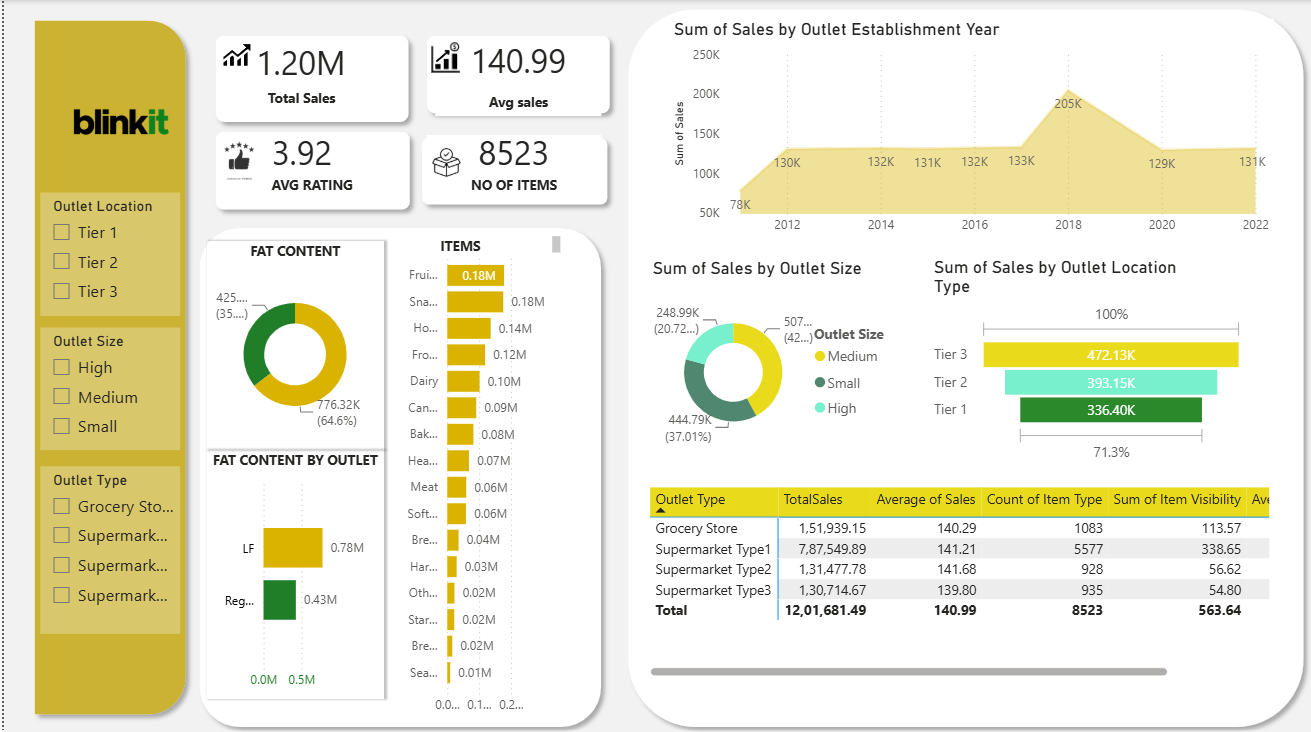

The page's visual inventory and layout, read from the dashboard file:
{"tool":"powerbi","page":{"name":"Page 1","canvas":[1280,720],"ordinal":0},"visuals":[{"type":"shape","box":[20.6,11,166,697.1],"z":0},{"type":"image","box":[20.6,50.8,188,135.8],"z":1000},{"type":"shape","box":[198.1,25.7,206.7,102.7],"z":2000},{"type":"shape","box":[404.8,25.7,196.9,94.2],"z":3000},{"type":"shape","box":[198.1,119.8,207.9,94.2],"z":4000},{"type":"shape","box":[182.2,214,410.9,506.3],"z":5000},{"type":"shape","box":[601.6,0,678.7,720.2],"z":6000},{"type":"card","fields":{"Values":["Sum(BlinkIT Grocery Data.Sales)"]},"box":[209.1,33,162.6,57.5],"z":7000},{"type":"card","fields":{"Values":["Avg(BlinkIT Grocery Data.Sales)"]},"box":[421.9,34.2,162.6,51.4],"z":8000},{"type":"card","fields":{"Values":["Avg(BlinkIT Grocery Data.Rating)"]},"box":[210.3,126,162.6,47.7],"z":9000},{"type":"textbox","box":[220.1,81.9,141.8,31.8],"z":10000},{"type":"textbox","box":[421.9,85.6,162.6,28.1],"z":11000},{"type":"textbox","box":[247,166.3,108.8,28.1],"z":12000},{"type":"barChart","fields":{"Y":["Sum(BlinkIT Grocery Data.Sales)"],"Category":["BlinkIT Grocery Data.Item Type"]},"box":[377.9,236,171.2,472],"z":13000},{"type":"textbox","box":[421.9,226.2,127.2,25.7],"z":14000},{"type":"donutChart","title":"FAT CONTENT ","fields":{"Category":["BlinkIT Grocery Data.Item Fat Content"],"Y":["Sum(BlinkIT Grocery Data.Sales)"]},"box":[198.1,236,173.6,204.2],"z":15000},{"type":"barChart","title":"FAT CONTENT BY OUTLET","fields":{"Category":["BlinkIT Grocery Data.Item Fat Content"],"Y":["Sum(BlinkIT Grocery Data.Sales)"]},"box":[198.1,440.2,173.6,243.3],"z":16000},{"type":"donutChart","fields":{"Category":["BlinkIT Grocery Data.Outlet Size"],"Y":["Sum(BlinkIT Grocery Data.Sales)"]},"box":[629.8,251.9,250.7,204.2],"z":17000},{"type":"funnel","fields":{"Category":["BlinkIT Grocery Data.Outlet Location Type"],"Y":["Sum(BlinkIT Grocery Data.Sales)"]},"box":[904.9,250.7,313,205.4],"z":18000},{"type":"pivotTable","fields":{"Rows":["BlinkIT Grocery Data.Outlet Type"],"Values":["Sum(BlinkIT Grocery Data.Sales)","Avg(BlinkIT Grocery Data.Sales)","CountNonNull(BlinkIT Grocery Data.Item Type)","Sum(BlinkIT Grocery Data.Item Visibility)","Avg(BlinkIT Grocery Data.Rating)"]},"box":[627.3,472,615.1,194.4],"z":19000},{"type":"slicer","fields":{"Values":["BlinkIT Grocery Data.Outlet Location Type"]},"box":[35.5,188.3,137,121.1],"z":20000},{"type":"slicer","fields":{"Values":["BlinkIT Grocery Data.Outlet Size"]},"box":[35.5,320.4,137,119.8],"z":21000},{"type":"shape","box":[399.9,126,199.3,83.2],"z":22000},{"type":"card","fields":{"Values":["CountNonNull(BlinkIT Grocery Data.Item Type)"]},"box":[413.3,132.1,171.2,35.5],"z":23000},{"type":"textbox","box":[413.3,166.3,171.2,28.1],"z":24000},{"type":"stackedAreaChart","fields":{"Category":["BlinkIT Grocery Data.Outlet Establishment Year"],"Y":["Sum(BlinkIT Grocery Data.Sales)"]},"box":[650.5,18.3,591.9,220.1],"z":25000},{"type":"image","box":[209.1,35.5,37.9,36.7],"z":26000},{"type":"image","box":[413.3,34.2,37.9,44],"z":27000},{"type":"image","box":[198.1,126,63.6,55],"z":28000},{"type":"image","box":[409.6,132.1,46.5,53.8],"z":29000},{"type":"slicer","fields":{"Values":["BlinkIT Grocery Data.Outlet Type"]},"box":[35.5,456.1,137,163.9],"z":30000}]}

Visuals, with their boxes in screenshot pixels (x1, y1, x2, y2), scaled from the page's 1280x720 canvas onto the 1311x732 screenshot:
shape: rect(21, 11, 191, 720)
image: rect(21, 52, 214, 190)
shape: rect(203, 26, 415, 131)
shape: rect(415, 26, 616, 122)
shape: rect(203, 122, 416, 218)
shape: rect(187, 218, 607, 731)
shape: rect(616, 0, 1310, 731)
card - Sum(BlinkIT Grocery Data.Sales): rect(214, 34, 381, 92)
card - Avg(BlinkIT Grocery Data.Sales): rect(432, 35, 599, 87)
card - Avg(BlinkIT Grocery Data.Rating): rect(215, 128, 382, 177)
textbox: rect(225, 83, 371, 116)
textbox: rect(432, 87, 599, 116)
textbox: rect(253, 169, 364, 198)
barChart - Sum(BlinkIT Grocery Data.Sales) x BlinkIT Grocery Data.Item Type: rect(387, 240, 562, 720)
textbox: rect(432, 230, 562, 256)
"FAT CONTENT " donutChart: rect(203, 240, 381, 448)
"FAT CONTENT BY OUTLET" barChart: rect(203, 448, 381, 695)
donutChart - BlinkIT Grocery Data.Outlet Size x Sum(BlinkIT Grocery Data.Sales): rect(645, 256, 902, 464)
funnel - BlinkIT Grocery Data.Outlet Location Type x Sum(BlinkIT Grocery Data.Sales): rect(927, 255, 1247, 464)
pivotTable - BlinkIT Grocery Data.Outlet Type x Sum(BlinkIT Grocery Data.Sales): rect(642, 480, 1272, 678)
slicer - BlinkIT Grocery Data.Outlet Location Type: rect(36, 191, 177, 315)
slicer - BlinkIT Grocery Data.Outlet Size: rect(36, 326, 177, 448)
shape: rect(410, 128, 614, 213)
card - CountNonNull(BlinkIT Grocery Data.Item Type): rect(423, 134, 599, 170)
textbox: rect(423, 169, 599, 198)
stackedAreaChart - BlinkIT Grocery Data.Outlet Establishment Year x Sum(BlinkIT Grocery Data.Sales): rect(666, 19, 1272, 242)
image: rect(214, 36, 253, 73)
image: rect(423, 35, 462, 80)
image: rect(203, 128, 268, 184)
image: rect(420, 134, 467, 189)
slicer - BlinkIT Grocery Data.Outlet Type: rect(36, 464, 177, 630)
